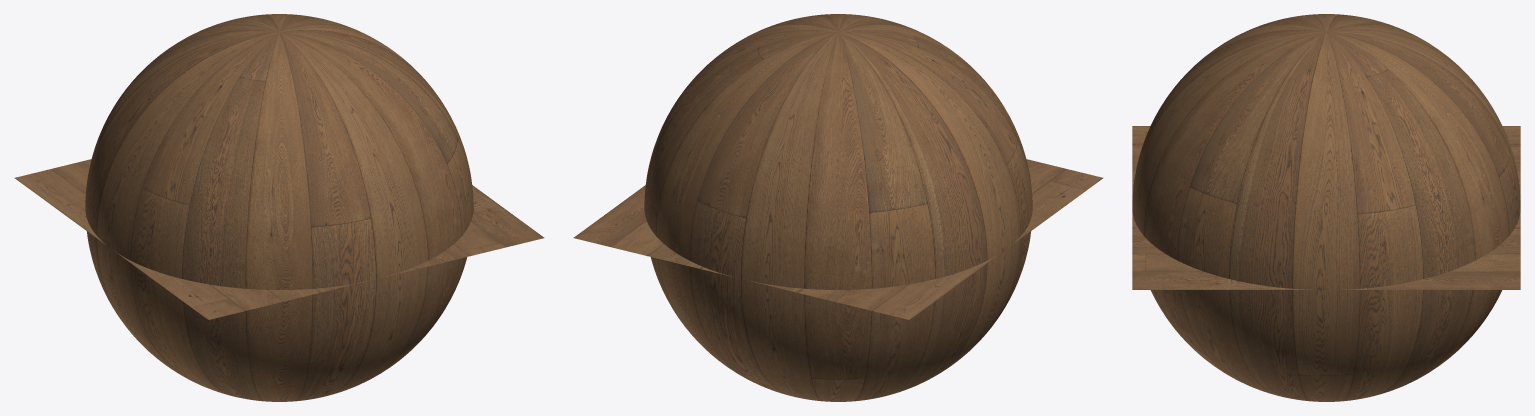
The model's file is wood_floor_4k.fbx.
The picture shows the model from 3 angles, left to right: view 1: azimuth 30°, elevation 25°; view 2: azimuth 150°, elevation 25°; view 3: azimuth 270°, elevation 25°; orthographic projection.
Visible parts, largest first — view 1: Sphere, Plane; view 2: Sphere, Plane; view 3: Sphere, Plane.
Boxes of the visible parts, <box> form: Sphere: <box>85,14,473,401</box>; Plane: <box>14,159,544,319</box>; Sphere: <box>644,14,1032,401</box>; Plane: <box>573,159,1103,319</box>; Sphere: <box>1132,14,1520,401</box>; Plane: <box>1132,126,1520,289</box>.
Bounding box in the file's own units: 170 × 170 × 170.
